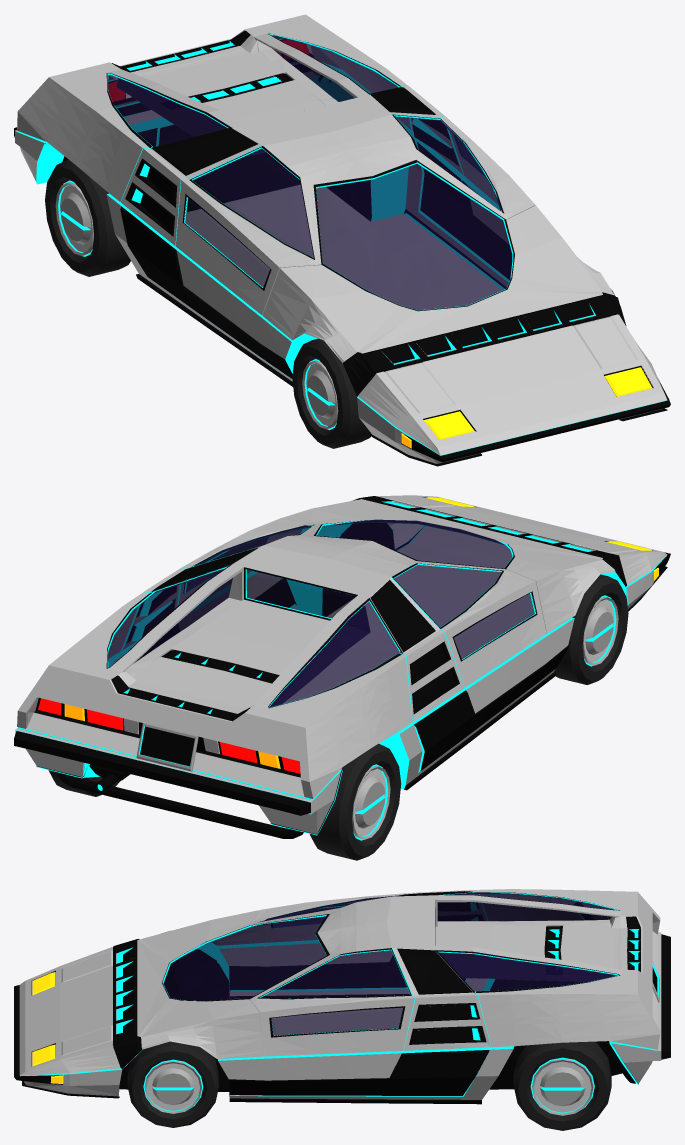
File: DZ_Fix_02.fbx
3 views of the same model, one above another, from view 1: azimuth 30°, elevation 25°; view 2: azimuth 150°, elevation 25°; view 3: azimuth 270°, elevation 25° (orthographic). The views are drawn at different scales.
Parts seen in each view (by area): view 1: Dome_Zero_Body, Dome_Zero_Inside, Back_Right, Front_Right; view 2: Dome_Zero_Body, Dome_Zero_Inside, Back_Right, Front_Right, Back_Pipe, Num_Plate_Back, Exhaust; view 3: Dome_Zero_Body, Dome_Zero_Inside, Back_Left, Front_Left.
Boxes of the visible parts, bbox=[...] form: Dome_Zero_Body: bbox=[14, 14, 670, 466]; Dome_Zero_Inside: bbox=[16, 30, 666, 454]; Back_Right: bbox=[45, 159, 130, 276]; Front_Right: bbox=[292, 338, 371, 448]; Dome_Zero_Body: bbox=[14, 495, 670, 835]; Dome_Zero_Inside: bbox=[16, 497, 666, 813]; Back_Right: bbox=[309, 743, 401, 860]; Front_Right: bbox=[554, 574, 628, 684]; Back_Pipe: bbox=[57, 772, 303, 838]; Num_Plate_Back: bbox=[136, 723, 198, 771]; Exhaust: bbox=[89, 764, 130, 793]; Dome_Zero_Body: bbox=[14, 889, 670, 1104]; Dome_Zero_Inside: bbox=[23, 892, 660, 1097]; Back_Left: bbox=[513, 1041, 611, 1130]; Front_Left: bbox=[127, 1041, 218, 1127].
Bounding box in the file's own units: 1.39 × 0.8097 × 3.19.
